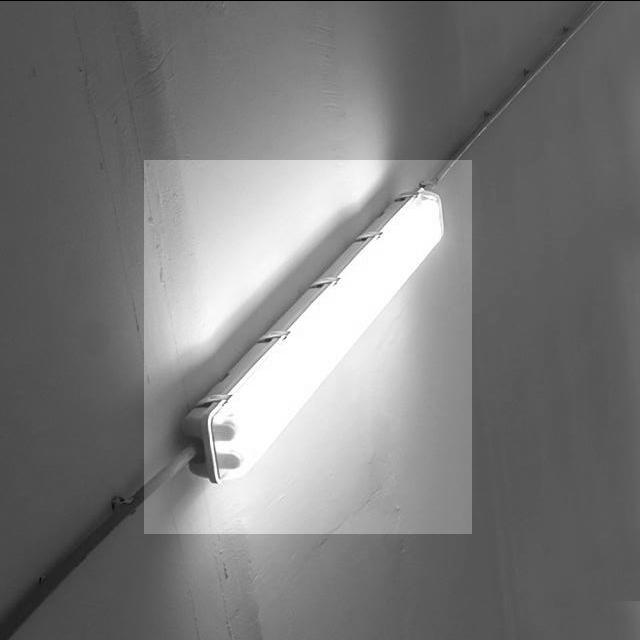light: (180, 185, 447, 484)
